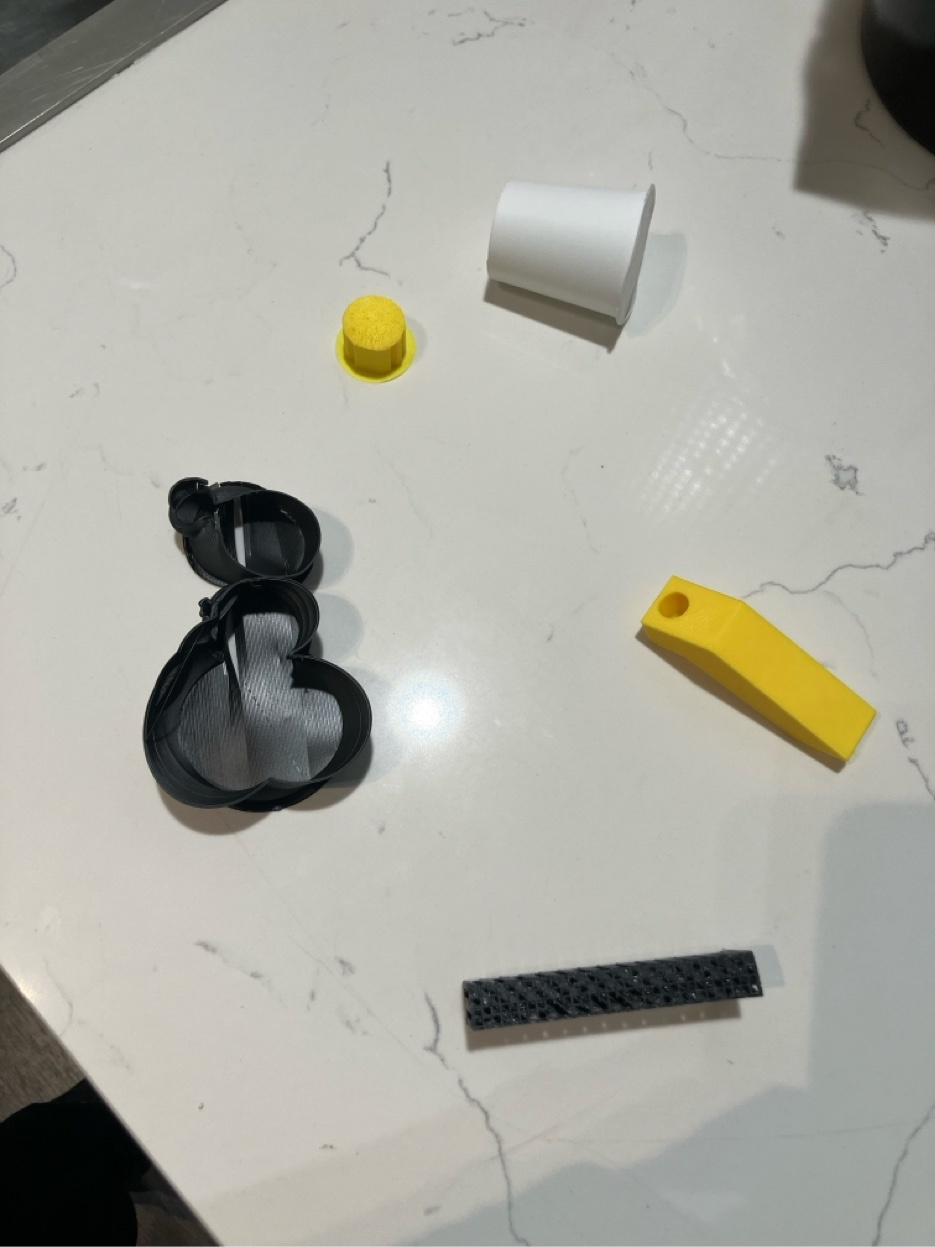bracket: (639, 576, 877, 770)
cup: (484, 178, 656, 325)
holder: (144, 478, 372, 813)
knob: (336, 295, 416, 383)
slotted_block: (464, 952, 762, 1030)
